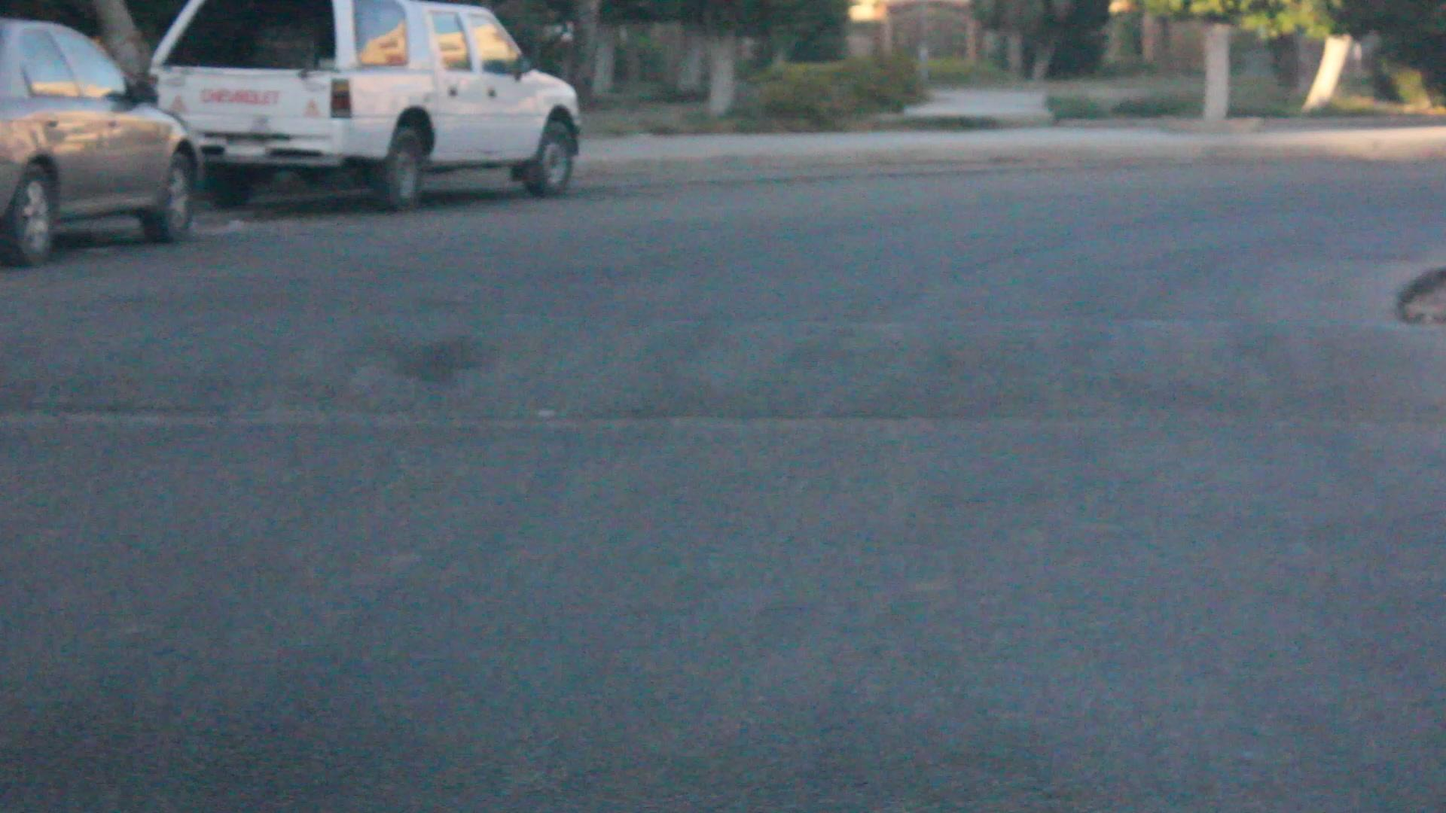Bump: (2, 276, 1440, 430)
